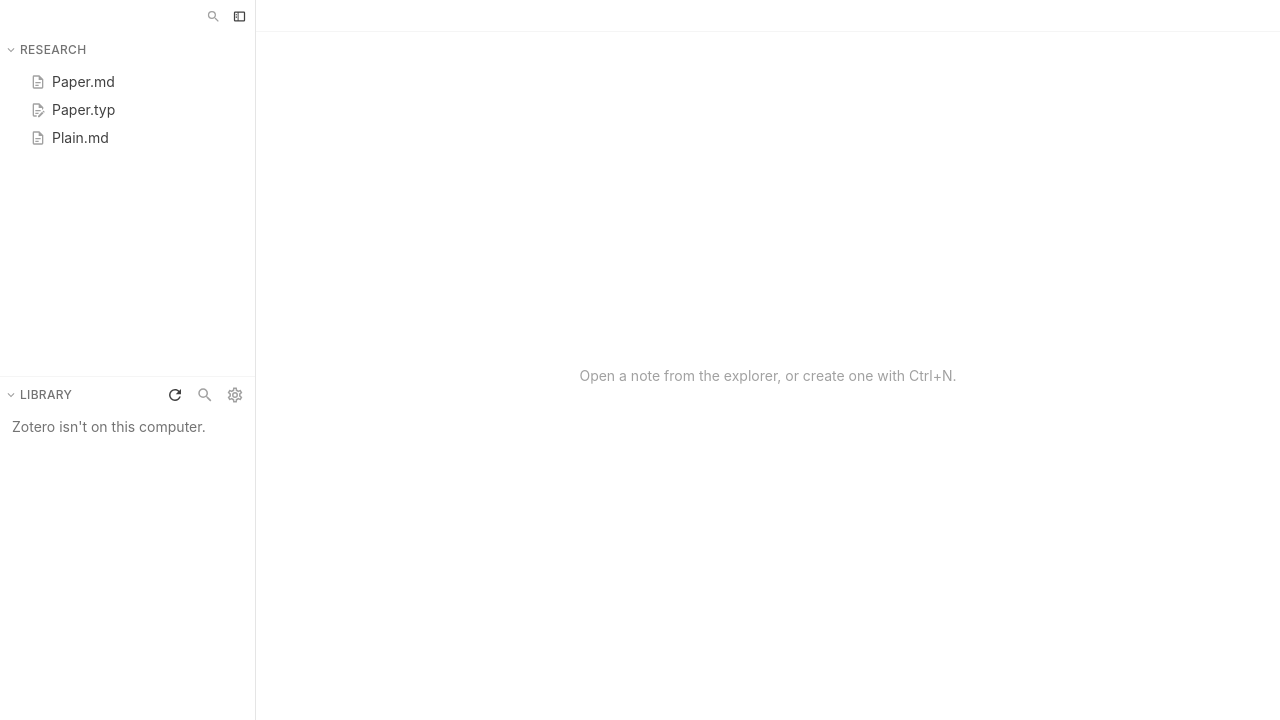
Test case: Seeing a note's properties › shows them as a table at the top of the note, instead of the raw block
This screenshot has width=1280, height=720.
Step 1. Click the button "Paper.md" → (128, 82), box [6,68,249,96]
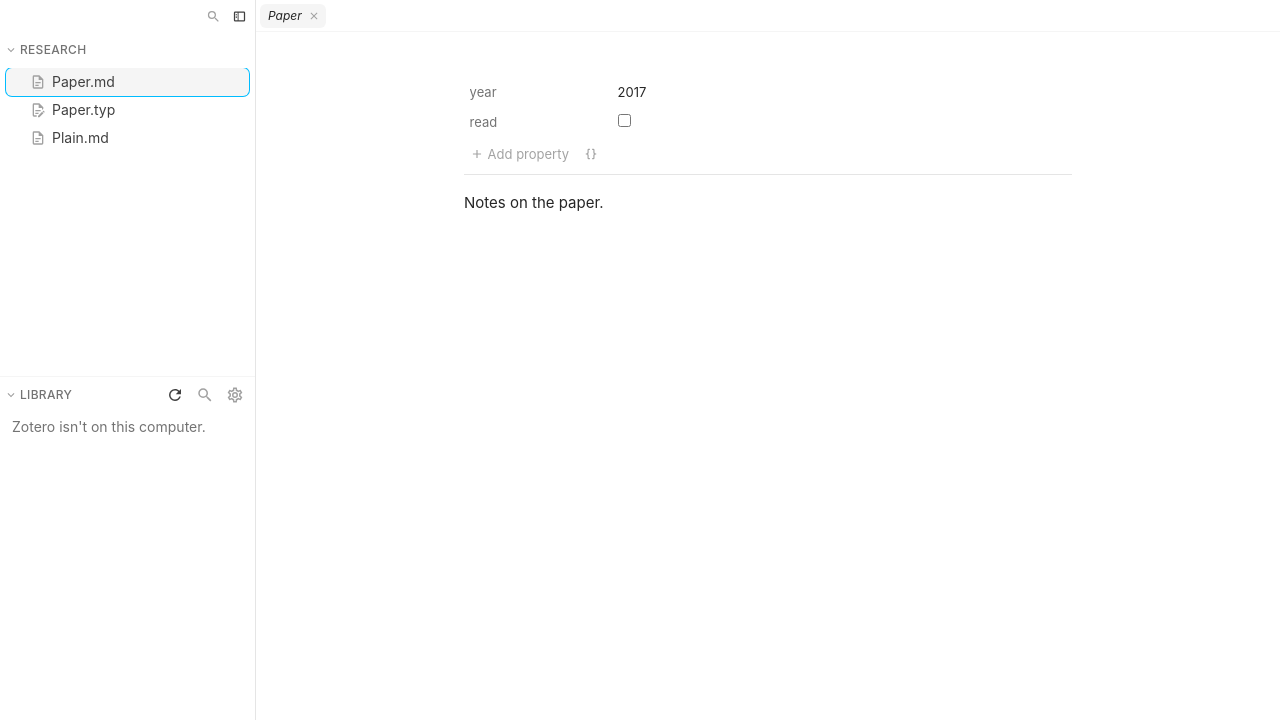
Expected: the number field named "year" holds "2017", [612,80,966,106]
Expected: the checkbox named "read" is not checked, [618,114,631,127]
Expected: the field named "Paper.md" shows "Notes on the paper.", [464,72,1072,216]
